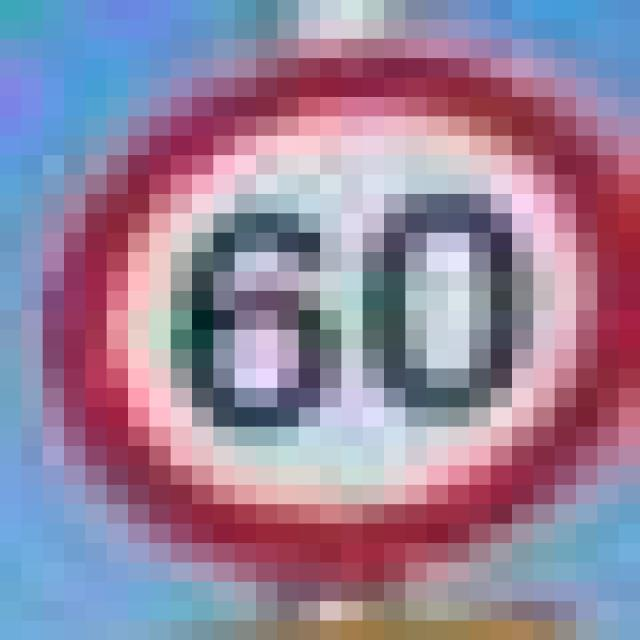traffic_sign: (21, 20, 619, 562)
